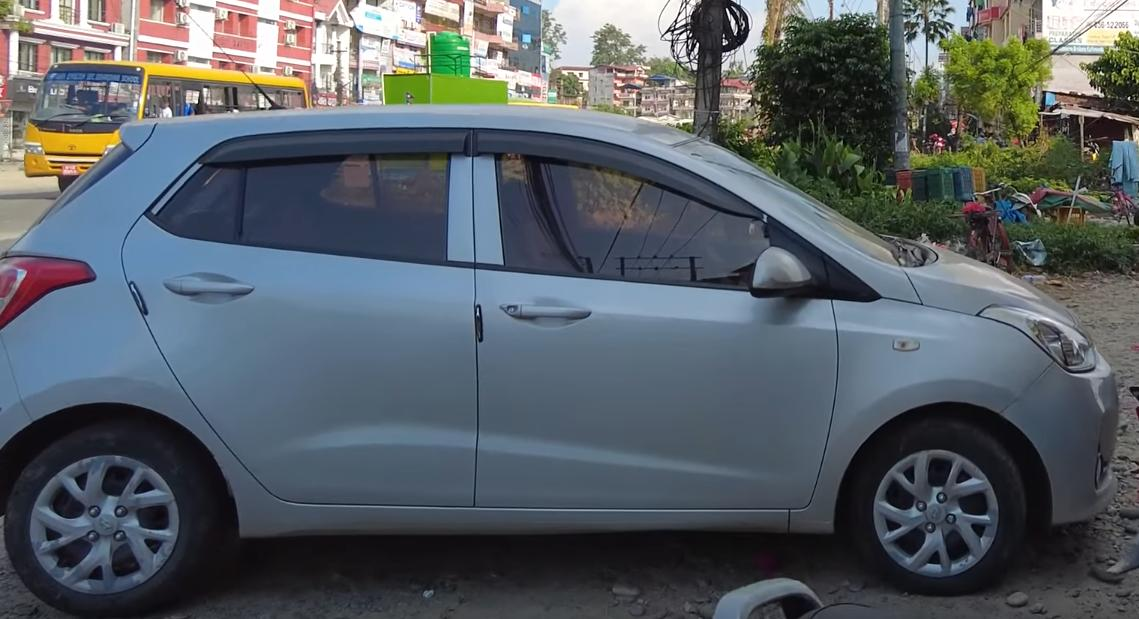car: (38, 102, 1139, 567)
school_bus: (20, 54, 312, 189)
